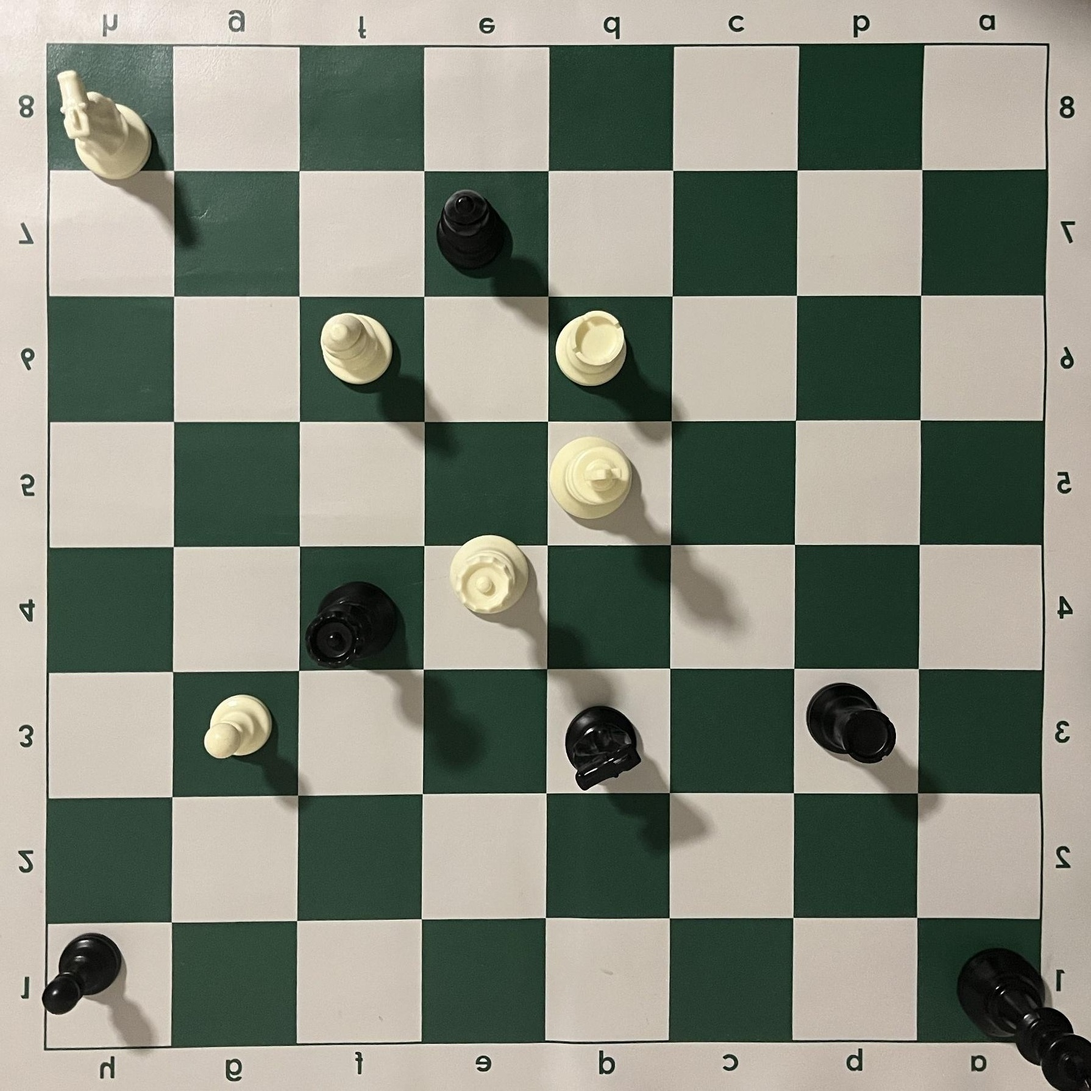black_bishop: (435, 189, 508, 272)
black_king: (956, 947, 1091, 1091)
black_knight: (564, 705, 644, 792)
black_pawn: (41, 931, 124, 1017)
black_queen: (304, 580, 399, 669)
black_rook: (805, 682, 898, 766)
white_bishop: (320, 312, 394, 385)
white_king: (549, 436, 633, 521)
white_knight: (55, 69, 154, 180)
white_pawn: (204, 694, 274, 761)
white_queen: (448, 535, 531, 619)
white_rook: (554, 310, 629, 389)
